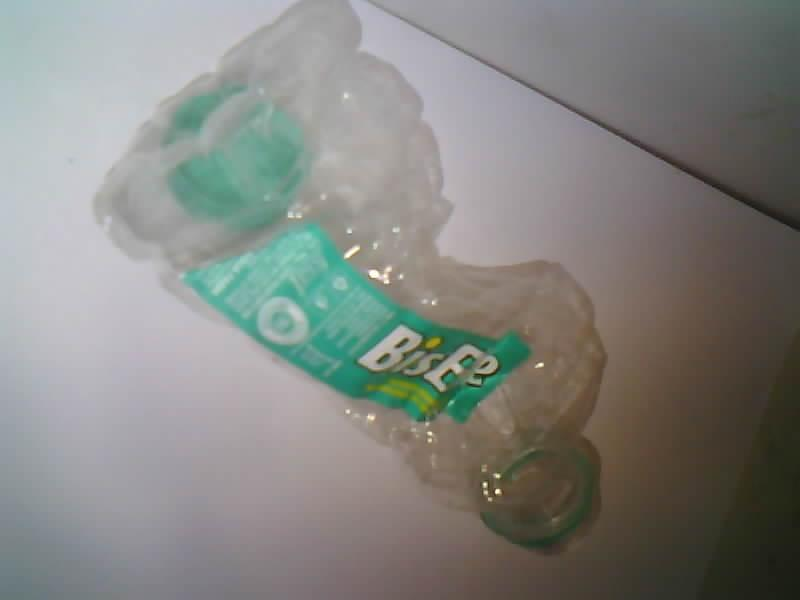non-biodegradable: (97, 0, 604, 547)
